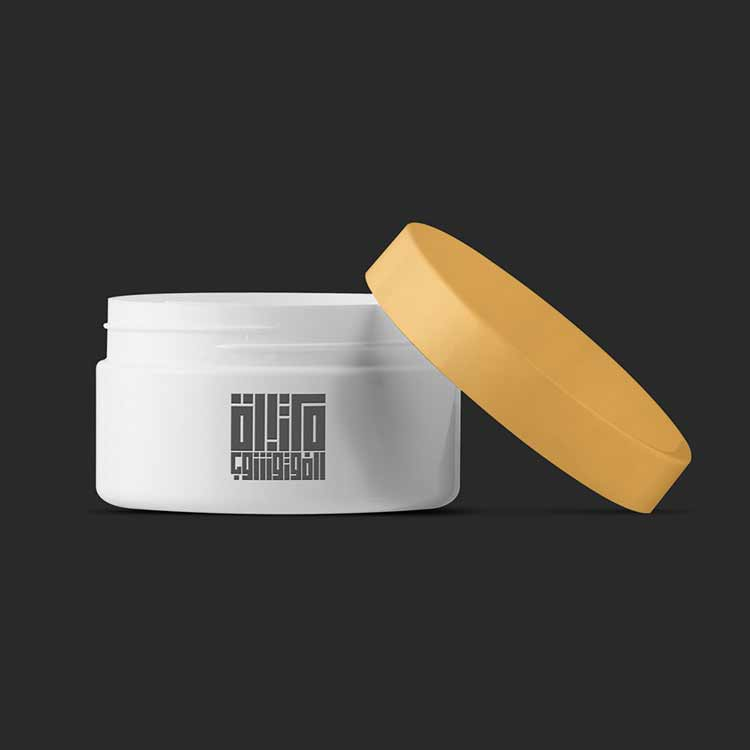Medicine: (48, 218, 712, 602)
